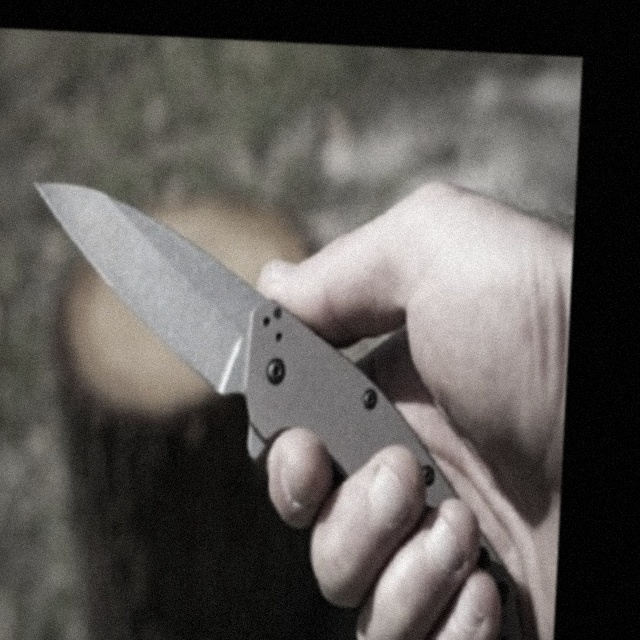Sharp-Object: (12, 181, 545, 640)
